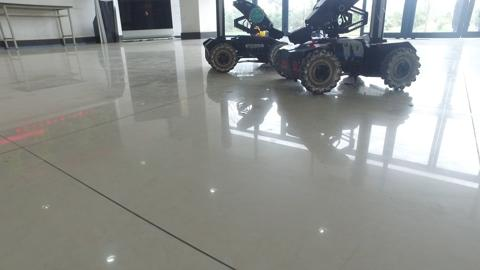chariot: (269, 1, 422, 95), (197, 2, 298, 76)
